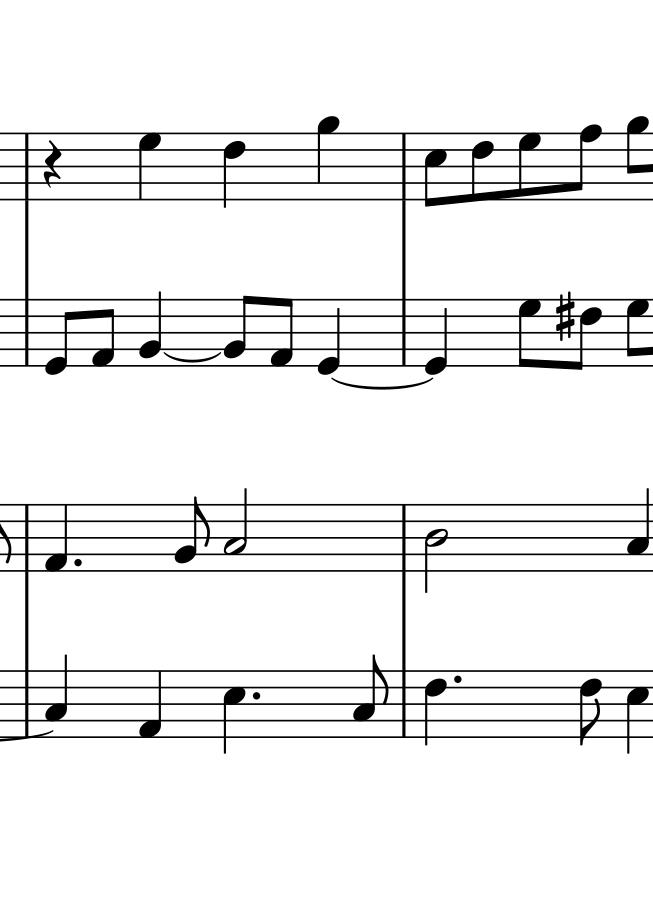2_2: (223, 491, 249, 568)
2_4: (423, 506, 449, 589)
4_0: (316, 298, 343, 377), (424, 297, 450, 377)
4_1: (137, 670, 163, 740), (44, 503, 69, 574)
4_2: (137, 290, 164, 369)
4_3: (625, 489, 651, 572), (44, 654, 69, 739)
4_5: (624, 669, 651, 755), (222, 668, 246, 756)
4_6: (423, 668, 448, 745), (222, 131, 246, 207)
4_7: (136, 132, 162, 201)
4_9: (316, 114, 339, 202)
8_0: (44, 299, 76, 377)
8_1: (89, 297, 117, 370), (268, 296, 294, 369)
8_2: (174, 497, 210, 571), (222, 294, 254, 367)
8_3: (353, 652, 389, 738)
8_5: (423, 131, 447, 208)
8_6: (571, 298, 602, 373), (578, 668, 604, 745), (470, 130, 495, 203)
8_7: (517, 297, 542, 370), (517, 131, 542, 201), (625, 298, 649, 367)
8_8: (570, 123, 601, 202)
8_9: (625, 116, 649, 203)
Rests4: (42, 140, 63, 191)
Sharp: (554, 290, 576, 343)
Single_barline: (395, 133, 412, 199), (396, 505, 413, 571), (18, 671, 35, 736), (395, 671, 412, 736), (19, 132, 35, 201), (395, 299, 411, 366), (19, 504, 34, 574), (19, 299, 34, 366)
Slur: (331, 378, 430, 390), (163, 352, 221, 363)
dot: (451, 671, 464, 688), (249, 689, 263, 703), (71, 555, 84, 569)
